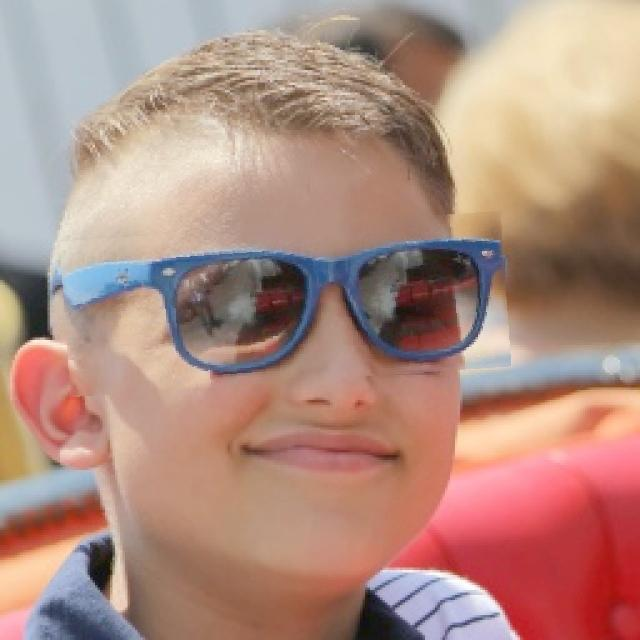glasses: (61, 219, 508, 389)
